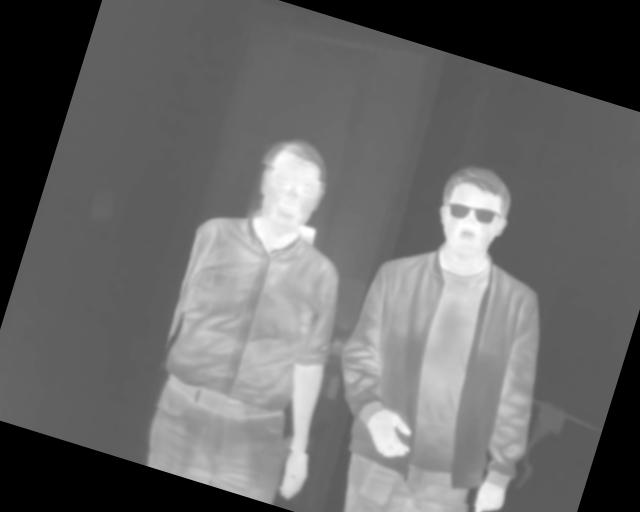face: (425, 156, 523, 271), (244, 131, 339, 244)
